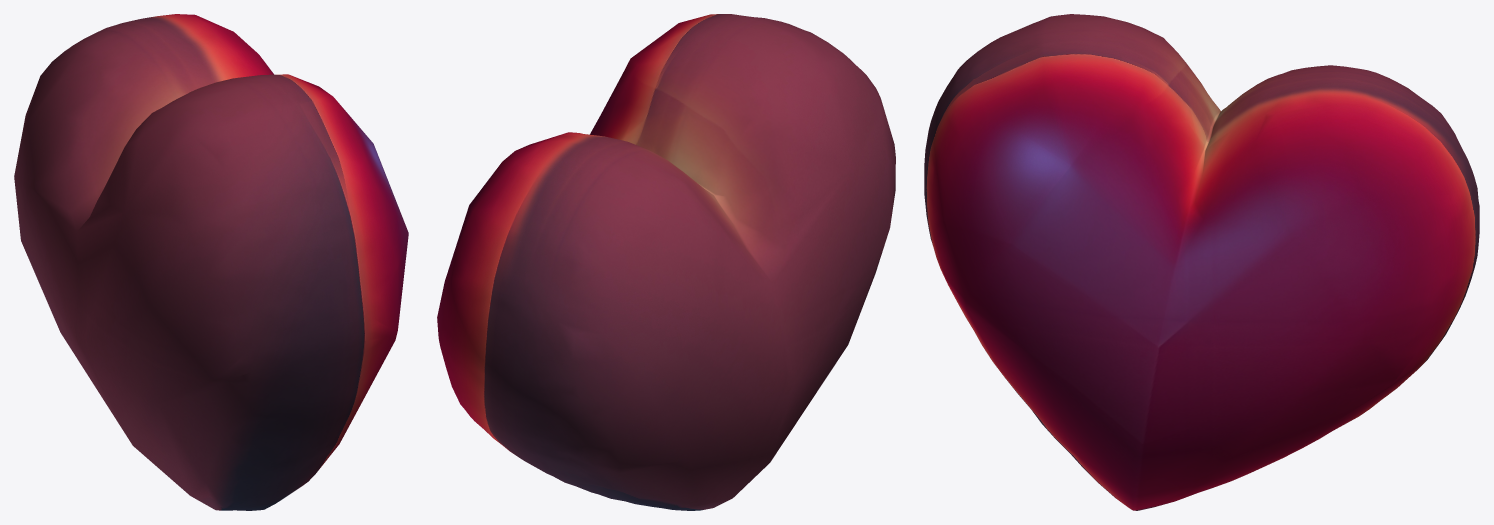
File: HEart.fbx
3 renders of one model, left to right at view 1: azimuth 30°, elevation 25°; view 2: azimuth 150°, elevation 25°; view 3: azimuth 270°, elevation 25°, orthographic. The views are drawn at different scales.
Parts seen in each view (by area): view 1: tripo_node_994975bd; view 2: tripo_node_994975bd; view 3: tripo_node_994975bd.
Part boxes in pixels (x1=…): tripo_node_994975bd: x1=14, y1=14, x2=408, y2=510; tripo_node_994975bd: x1=437, y1=14, x2=895, y2=510; tripo_node_994975bd: x1=924, y1=14, x2=1479, y2=510.
Size of the model in its own units: 0.5957 by 0.9121 by 0.998.
